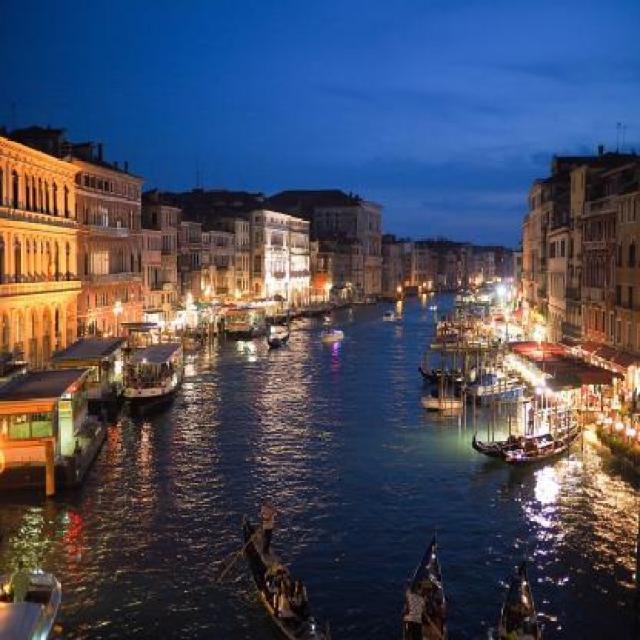ship: (240, 514, 332, 635), (399, 529, 447, 636), (0, 570, 62, 638), (122, 340, 184, 405), (470, 421, 576, 457), (497, 552, 541, 638), (500, 424, 583, 464), (465, 369, 526, 402), (418, 359, 500, 381), (430, 333, 488, 349), (418, 388, 462, 408), (265, 328, 292, 347), (314, 328, 344, 343)
